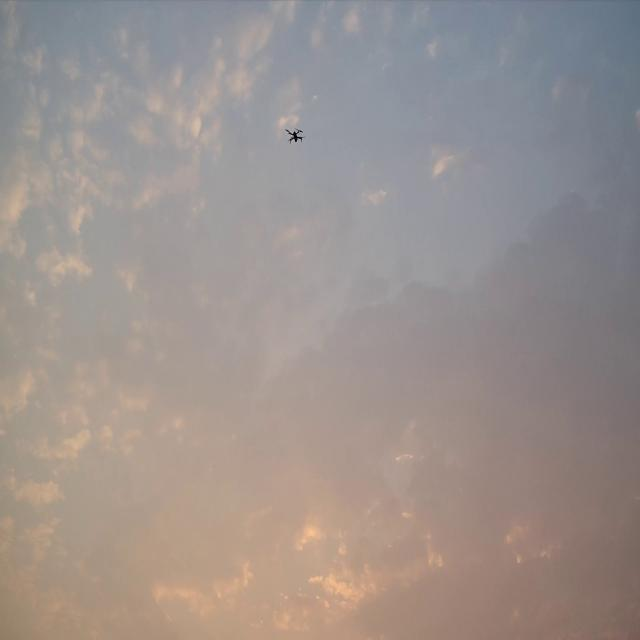UAV: (285, 127, 306, 144)
